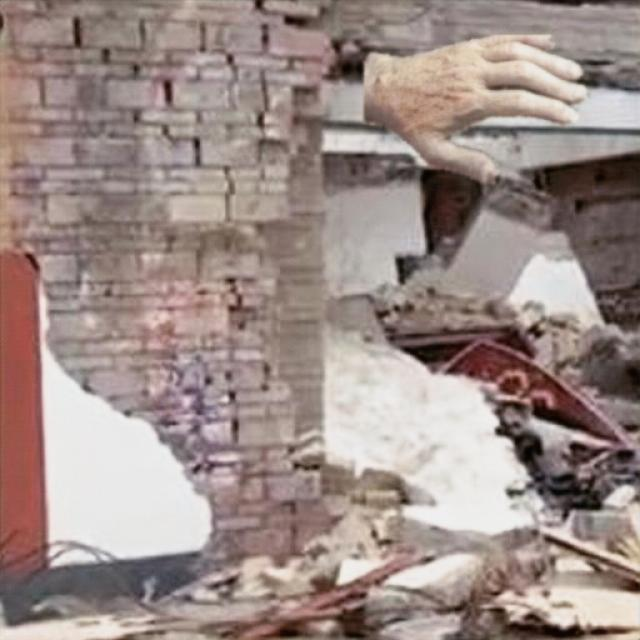Person in Rubble: (363, 35, 588, 184)
